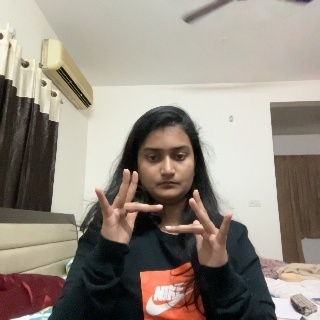Internet: (95, 167, 236, 283)
